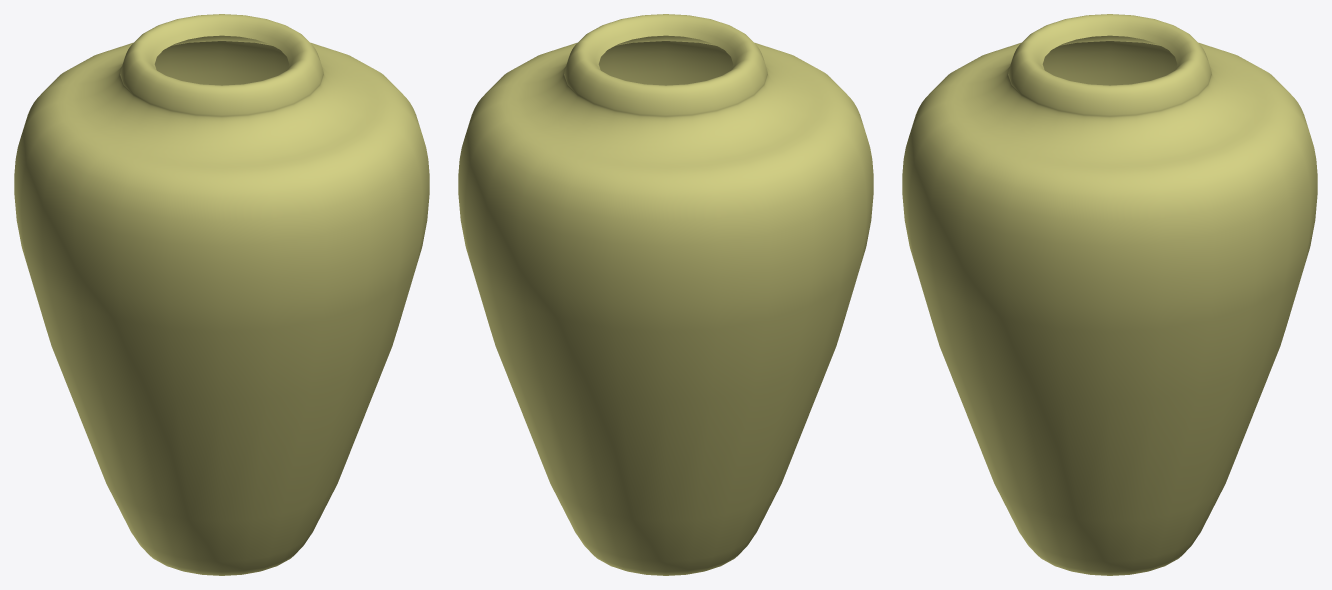
File: vase number 3.fbx
3 renders of one model, left to right at view 1: azimuth 30°, elevation 25°; view 2: azimuth 150°, elevation 25°; view 3: azimuth 270°, elevation 25°, orthographic.
Parts seen in each view (by area): view 1: Lathe; view 2: Lathe; view 3: Lathe.
Boxes of the visible parts, x1,y1,x2,y2 form: Lathe: (14, 14, 429, 575); Lathe: (458, 14, 873, 575); Lathe: (902, 14, 1317, 575).
Size of the model in its own units: 273 by 359 by 273.
